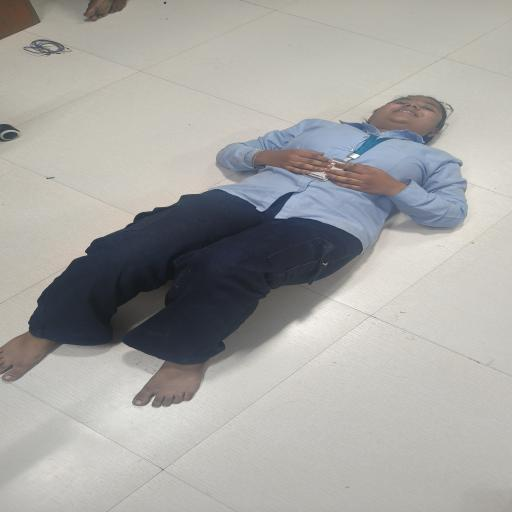survivor: (0, 94, 469, 408), (83, 0, 130, 22)
